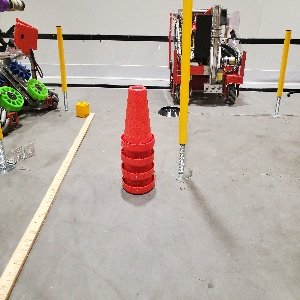Red_4: (122, 86, 150, 191)
